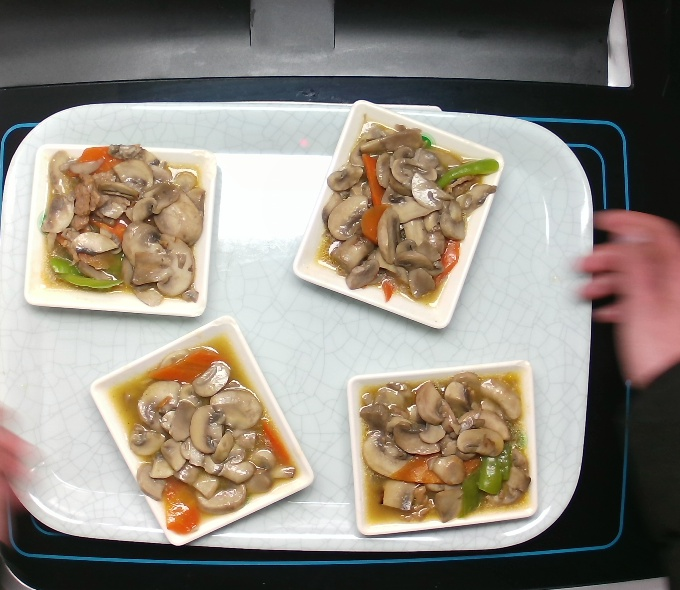wcq-HouTouGuChaoRou: (103, 332, 316, 538), (301, 116, 503, 314), (343, 358, 542, 524), (37, 140, 227, 307)
